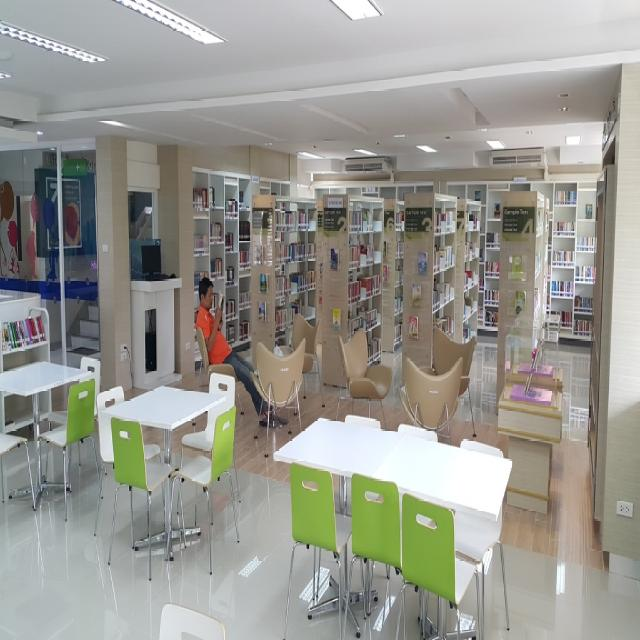chair: (283, 462, 361, 639), (401, 492, 485, 639), (170, 406, 241, 570), (456, 434, 512, 636), (108, 416, 173, 576), (37, 370, 98, 523), (351, 473, 406, 639), (254, 338, 305, 458), (401, 356, 462, 446), (337, 329, 391, 428), (433, 330, 478, 440), (0, 390, 39, 509), (292, 315, 322, 401), (158, 602, 226, 638)
desk: (258, 415, 510, 629)
person: (195, 276, 263, 418)
